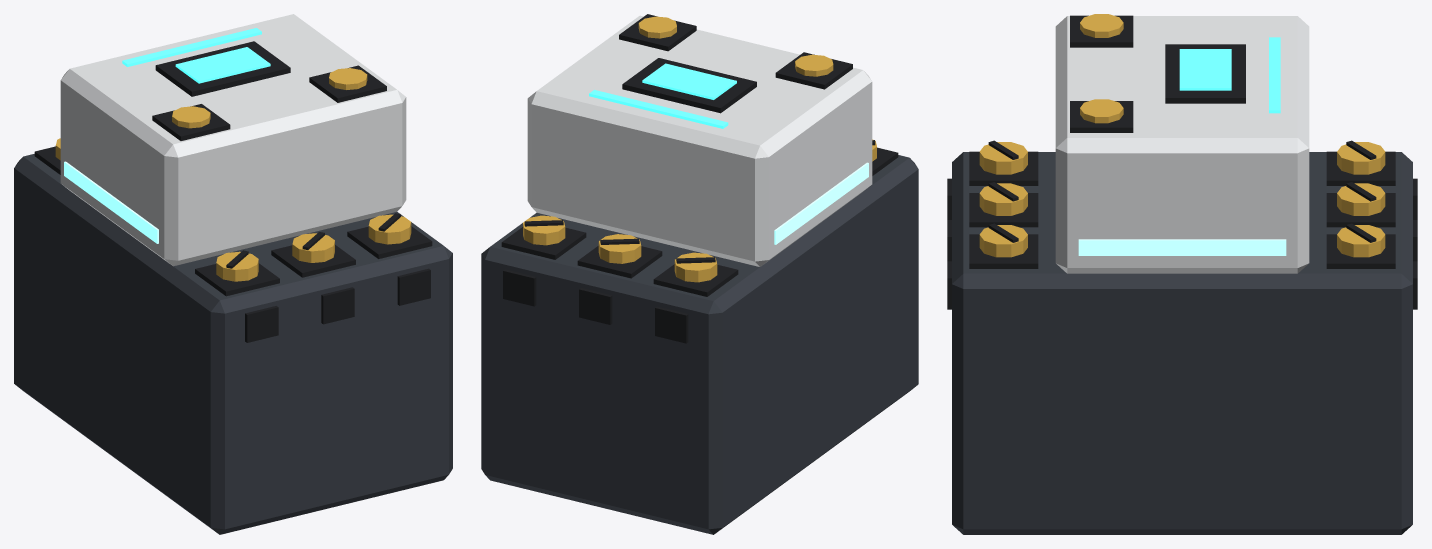
File: relay_space.glb
The picture shows the model from 3 angles, left to right: view 1: azimuth 30°, elevation 25°; view 2: azimuth 150°, elevation 25°; view 3: azimuth 270°, elevation 25°; orthographic projection. The views are drawn at different scales.
Parts seen in each view (by area): view 1: relay_space; view 2: relay_space; view 3: relay_space.
Part boxes in pixels (x1=…): relay_space: x1=14, y1=14, x2=452, y2=534; relay_space: x1=481, y1=14, x2=918, y2=534; relay_space: x1=947, y1=14, x2=1417, y2=534.
Bounding box in the file's own units: 0.0548 × 0.0782 × 0.0816.
